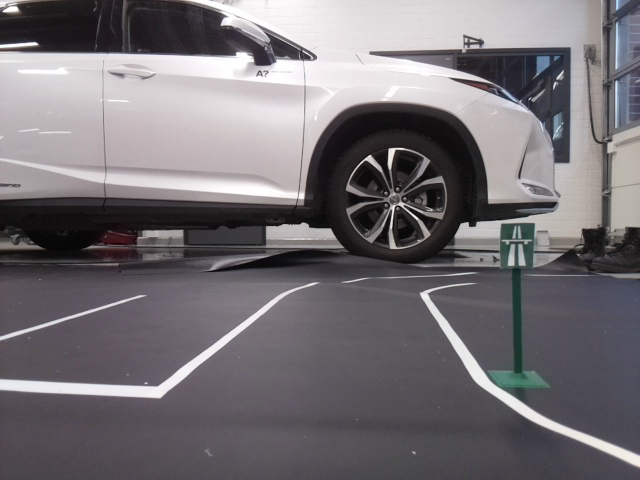HighwayEntrance: (502, 224, 535, 269)
